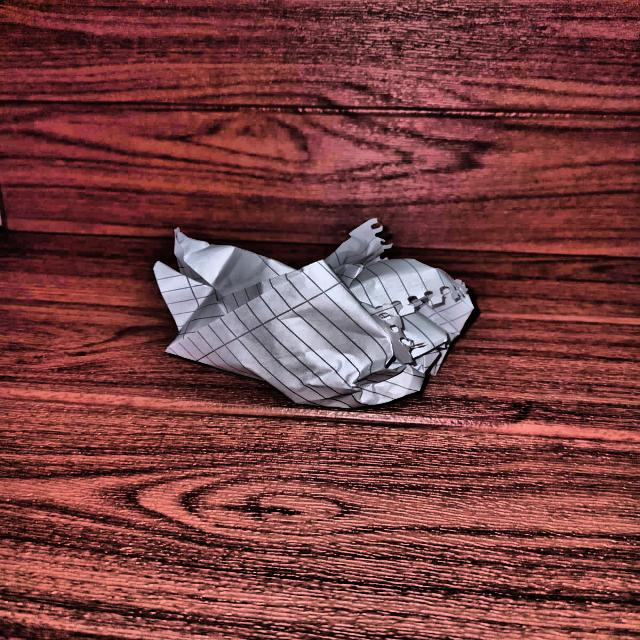Paper: (150, 230, 476, 402)
